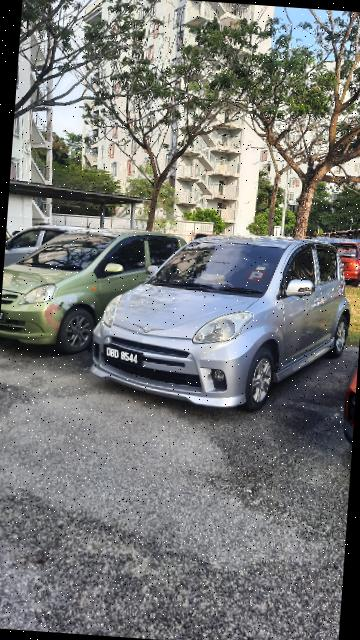License_Plate: (99, 341, 151, 373)
car: (86, 220, 357, 426), (1, 211, 183, 362)
